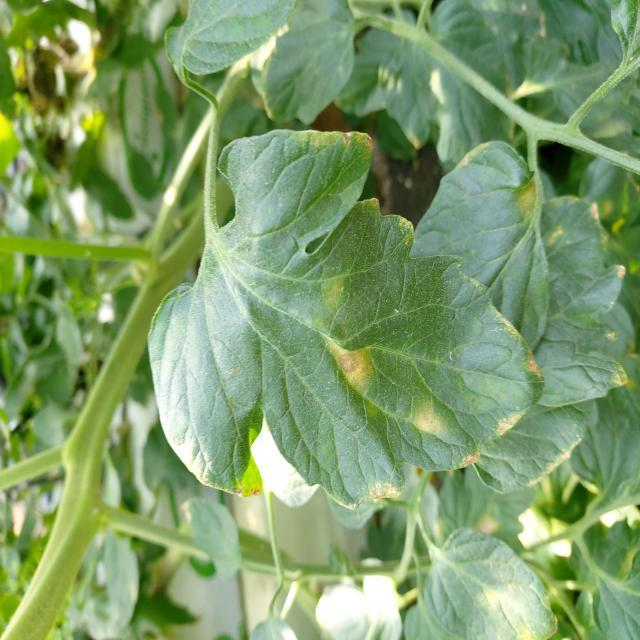Tomato mold leaf: (144, 127, 536, 512)
